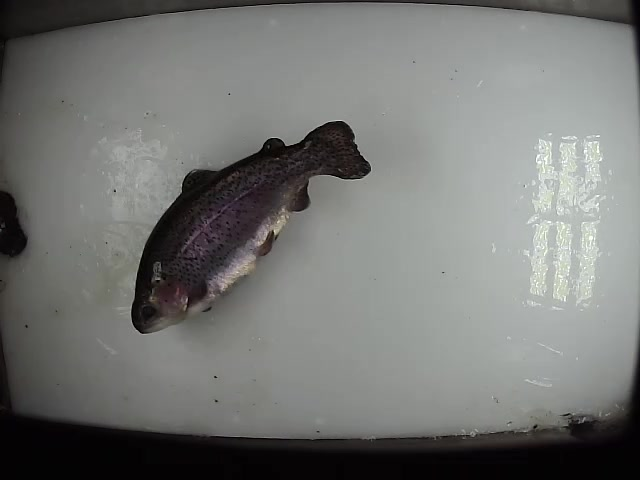fish: (129, 118, 374, 338)
